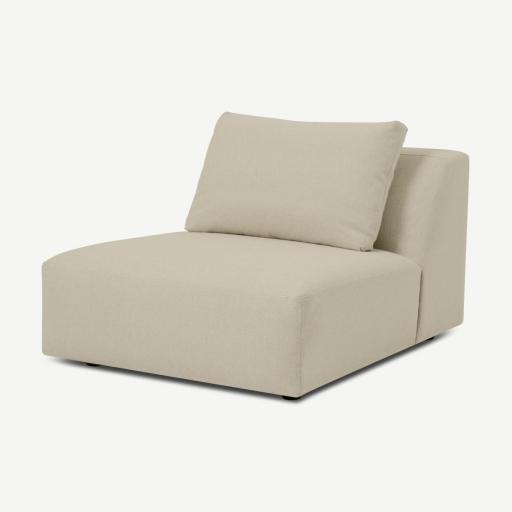back_cushion: (185, 113, 406, 251)
base: (43, 267, 419, 397)
left_arm: (374, 148, 469, 343)
one-seater: (43, 113, 468, 399)
seat_cushion: (43, 232, 418, 297)
